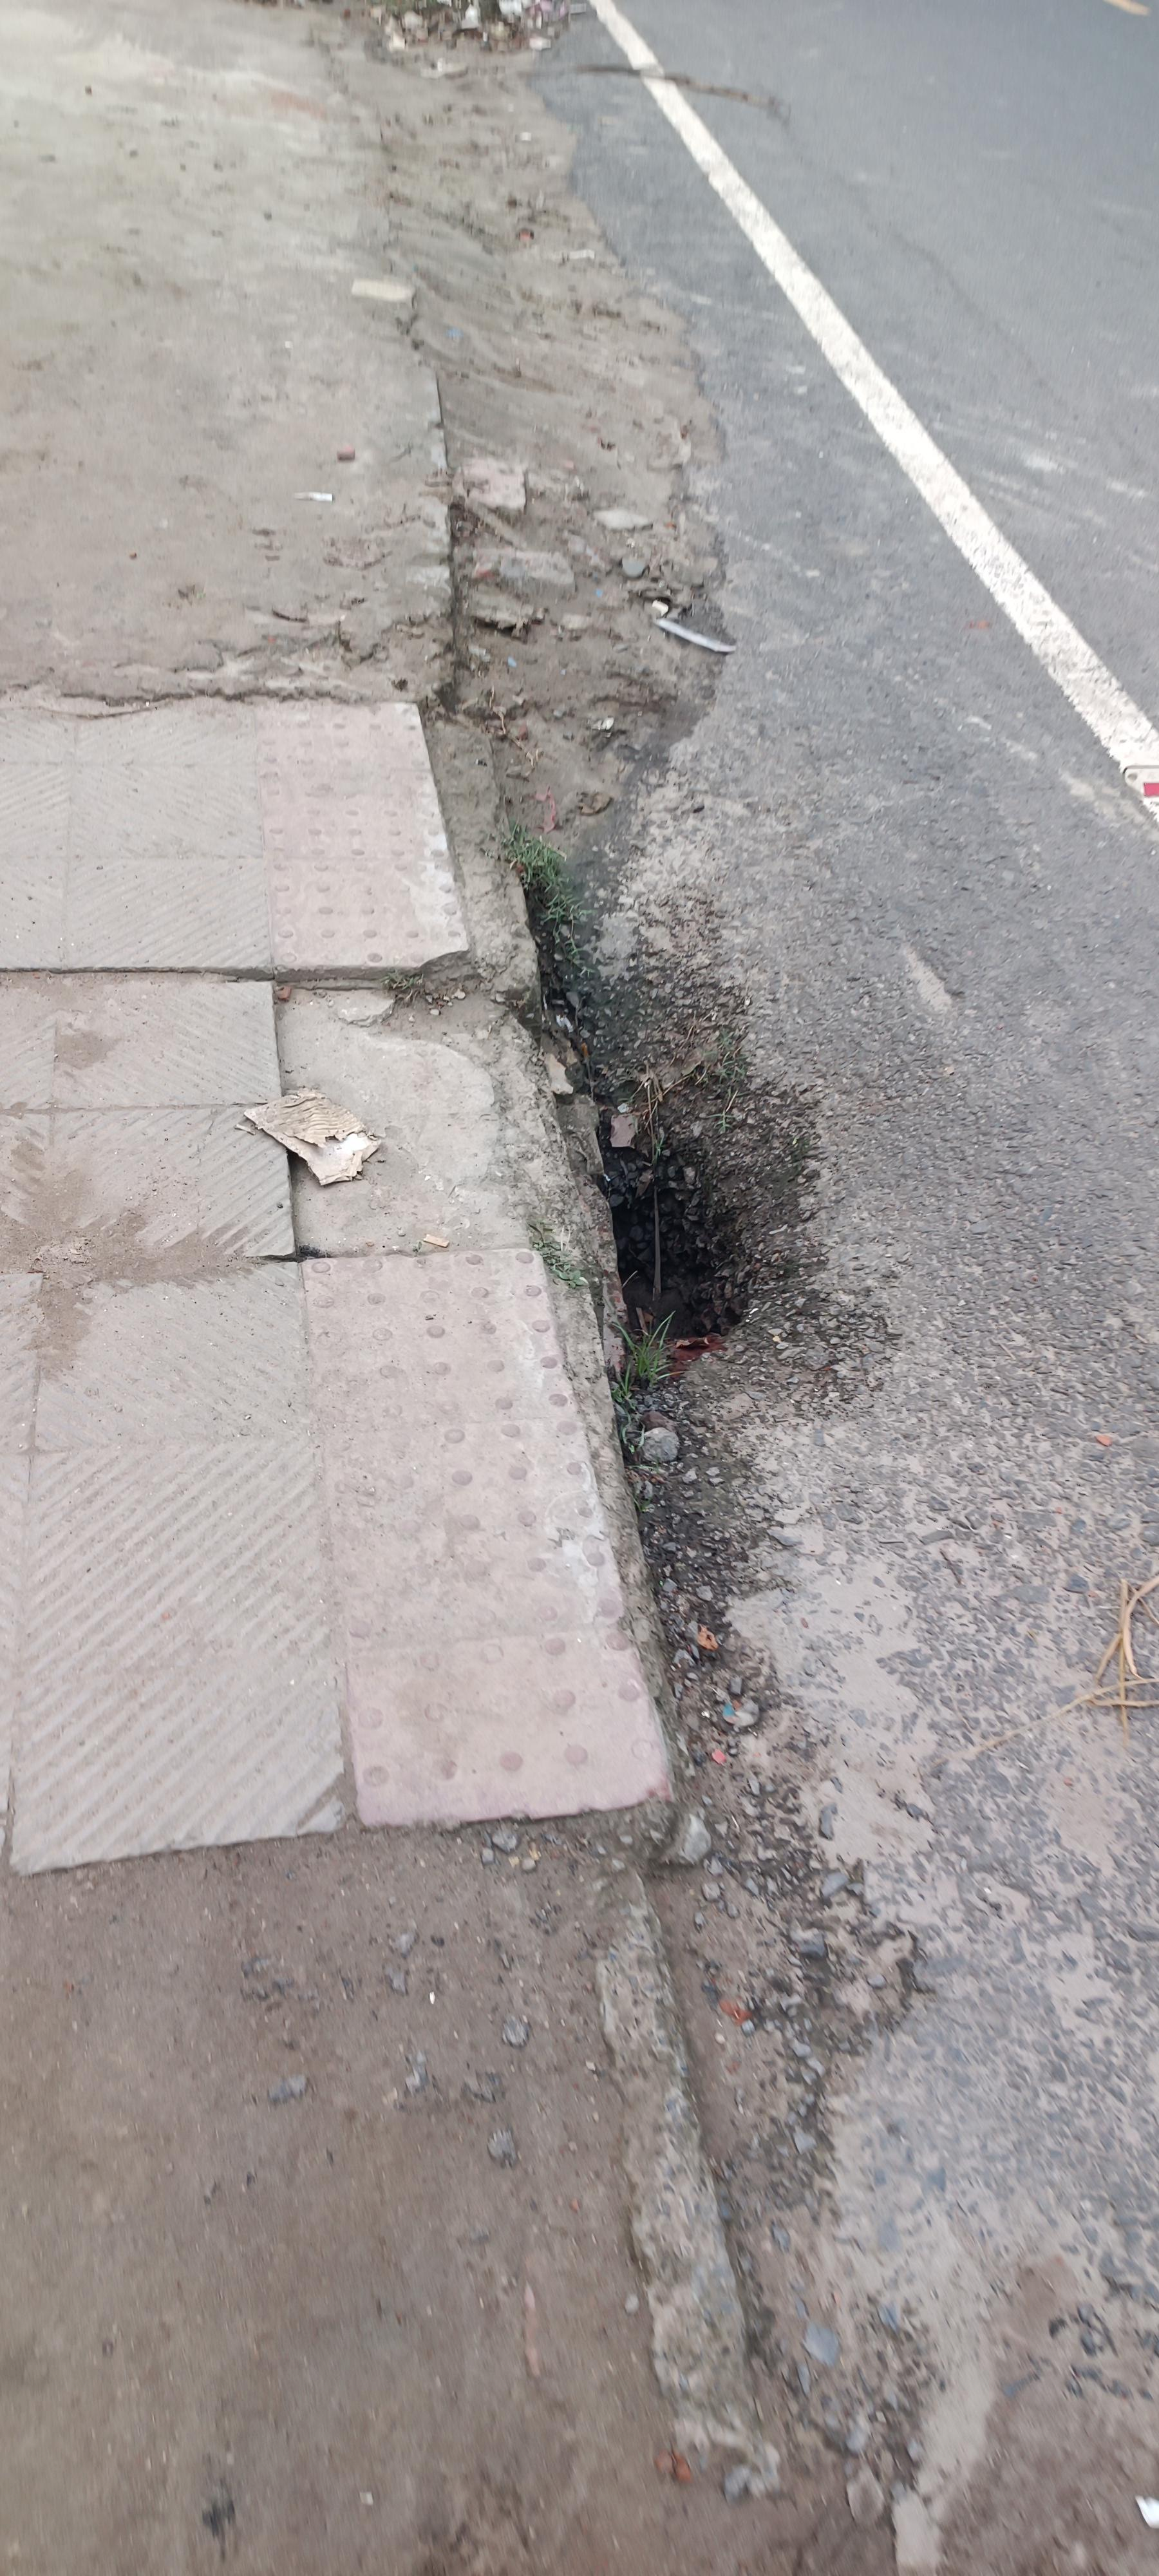Motorcycle: (547, 1081, 837, 1429)
Pothole: (0, 309, 798, 2576)
